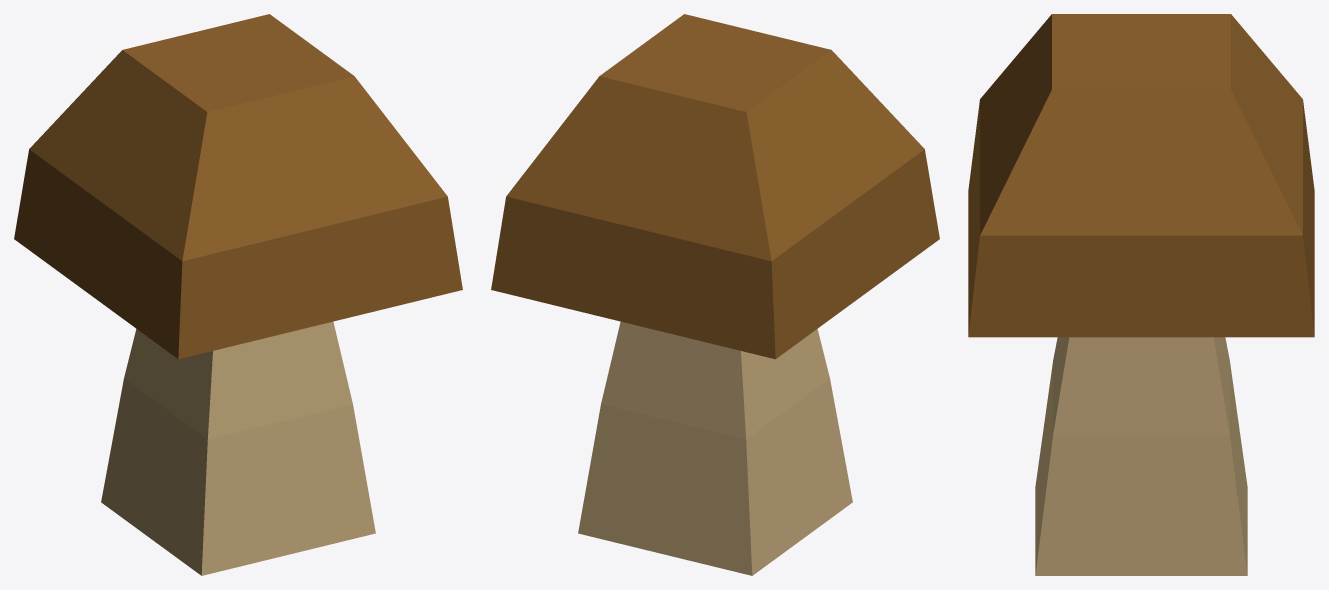
Rendered from ForestMushroom02.fbx.
The picture shows the model from 3 angles, left to right: view 1: azimuth 30°, elevation 25°; view 2: azimuth 150°, elevation 25°; view 3: azimuth 270°, elevation 25°; orthographic projection. The views are drawn at different scales.
Parts seen in each view (by area): view 1: ForestMushroom02; view 2: ForestMushroom02; view 3: ForestMushroom02.
Boxes of the visible parts, x1,y1,x2,y2 form: ForestMushroom02: (14,14,462,575); ForestMushroom02: (491,14,939,575); ForestMushroom02: (968,14,1314,575).
Size of the model in its own units: 4.24 by 6.47 by 4.24.
